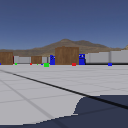blue_basket: (50, 55, 85, 65)
blue_cube: (107, 62, 113, 67), (41, 63, 43, 65), (1, 62, 2, 65)
green_cube: (44, 62, 49, 67), (36, 63, 39, 66), (14, 63, 17, 65)
obstacle: (55, 47, 78, 65), (1, 52, 12, 65), (30, 56, 42, 63)
red_basket: (12, 56, 14, 64)
red_cube: (71, 62, 76, 66), (29, 63, 32, 65)
